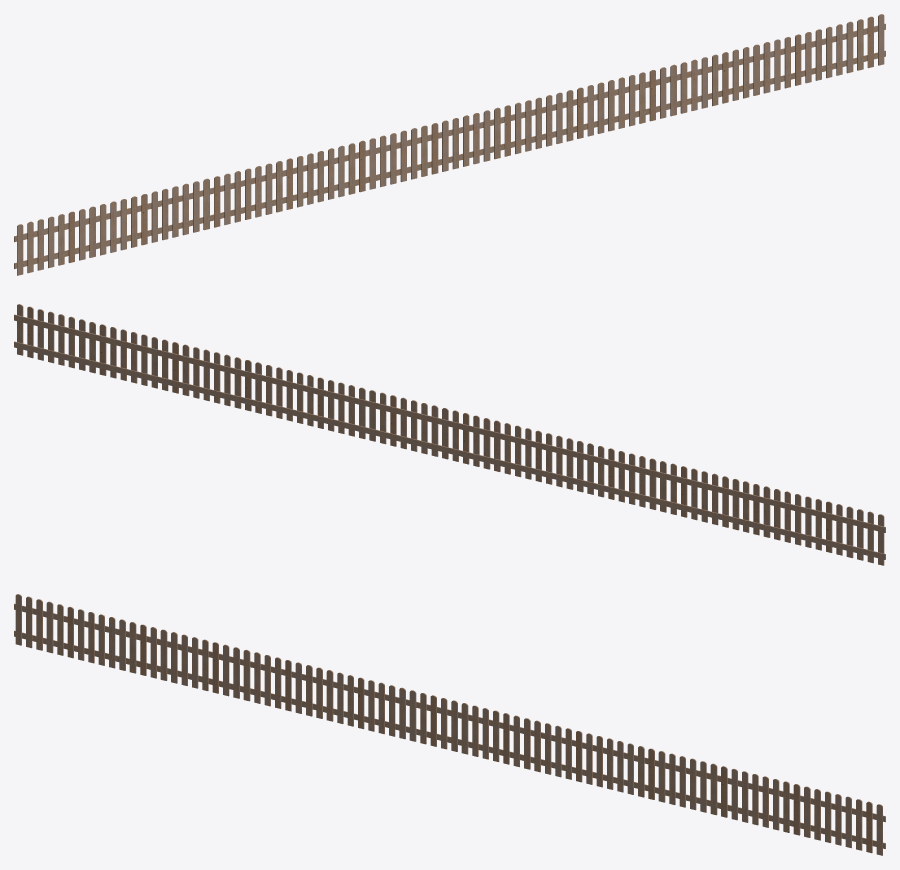
Rendered from vallas.glb.
3 views of the same model, one above another, from view 1: azimuth 30°, elevation 25°; view 2: azimuth 150°, elevation 25°; view 3: azimuth 330°, elevation 25° (orthographic).
Visible parts, largest first — view 1: WoodFence_WoodFence_0.011, WoodFence_WoodFence_0.003, WoodFence, WoodFence_WoodFence_0.005, WoodFence_WoodFence_0.004, WoodFence_WoodFence_0.001, WoodFence_WoodFence_0.002, WoodFence_WoodFence_0.009, WoodFence_WoodFence_0.008, WoodFence_WoodFence_0.010, WoodFence_WoodFence_0.007, WoodFence_WoodFence_0.006; view 2: WoodFence_WoodFence_0.003, WoodFence_WoodFence_0.007, WoodFence_WoodFence_0.010, WoodFence_WoodFence_0.011, WoodFence_WoodFence_0.009, WoodFence_WoodFence_0.002, WoodFence_WoodFence_0.004, WoodFence_WoodFence_0.001, WoodFence_WoodFence_0.006, WoodFence_WoodFence_0.008, WoodFence_WoodFence_0.005, WoodFence; view 3: WoodFence_WoodFence_0.002, WoodFence_WoodFence_0.004, WoodFence_WoodFence_0.009, WoodFence_WoodFence_0.006, WoodFence_WoodFence_0.007, WoodFence_WoodFence_0.008, WoodFence_WoodFence_0.011, WoodFence_WoodFence_0.010, WoodFence_WoodFence_0.001, WoodFence_WoodFence_0.003, WoodFence, WoodFence_WoodFence_0.005.
Part boxes in pixels (x1,y1,x2,y2): WoodFence_WoodFence_0.011: (377,120,450,187); WoodFence_WoodFence_0.003: (740,32,813,98); WoodFence: (813,14,885,80); WoodFence_WoodFence_0.005: (522,85,595,151); WoodFence_WoodFence_0.004: (450,102,522,169); WoodFence_WoodFence_0.001: (595,67,667,133); WoodFence_WoodFence_0.002: (668,49,740,116); WoodFence_WoodFence_0.009: (232,156,304,222); WoodFence_WoodFence_0.008: (305,138,377,204); WoodFence_WoodFence_0.010: (159,173,232,240); WoodFence_WoodFence_0.007: (14,209,87,275); WoodFence_WoodFence_0.006: (87,191,159,257); WoodFence_WoodFence_0.003: (86,322,159,388); WoodFence_WoodFence_0.007: (812,499,885,565); WoodFence_WoodFence_0.010: (667,463,740,530); WoodFence_WoodFence_0.011: (449,410,522,477); WoodFence_WoodFence_0.009: (595,446,667,512); WoodFence_WoodFence_0.002: (159,339,231,406); WoodFence_WoodFence_0.004: (377,392,449,459); WoodFence_WoodFence_0.001: (232,357,304,423); WoodFence_WoodFence_0.006: (740,481,812,547); WoodFence_WoodFence_0.008: (522,428,595,494); WoodFence_WoodFence_0.005: (304,375,376,441); WoodFence: (14,304,86,370); WoodFence_WoodFence_0.002: (667,753,740,820); WoodFence_WoodFence_0.004: (449,700,522,767); WoodFence_WoodFence_0.009: (231,647,304,713); WoodFence_WoodFence_0.006: (86,612,159,678); WoodFence_WoodFence_0.007: (14,594,86,660); WoodFence_WoodFence_0.008: (304,665,377,731); WoodFence_WoodFence_0.011: (377,682,449,749); WoodFence_WoodFence_0.010: (159,629,231,696); WoodFence_WoodFence_0.001: (595,736,667,802); WoodFence_WoodFence_0.003: (740,771,812,837); WoodFence: (812,789,885,855); WoodFence_WoodFence_0.005: (522,718,595,784).
Size of the model in its own units: 52.45 by 2.9 by 0.1235.
Materials: 12 (12 with a texture image).
